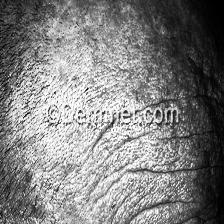Benign Marking or Mole: (130, 0, 188, 63)
